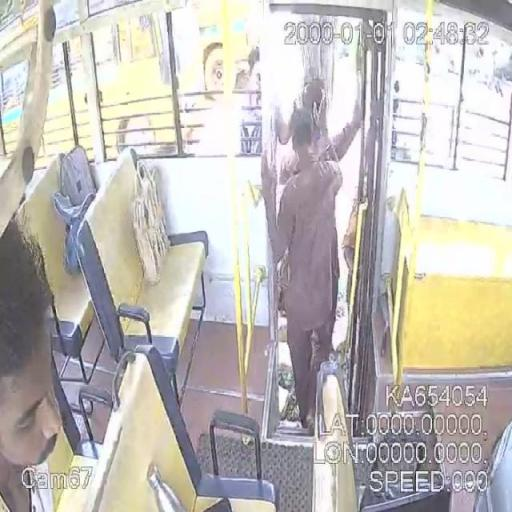persona: (262, 78, 364, 432), (271, 104, 345, 430), (0, 214, 64, 511)
